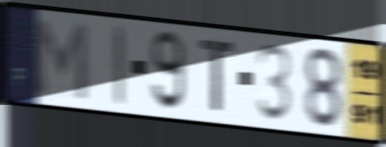3: (255, 41, 294, 123)
8: (302, 46, 344, 130)
9: (149, 28, 188, 114)
I: (112, 23, 126, 109)
M: (30, 15, 90, 104)
T: (198, 37, 237, 115)
